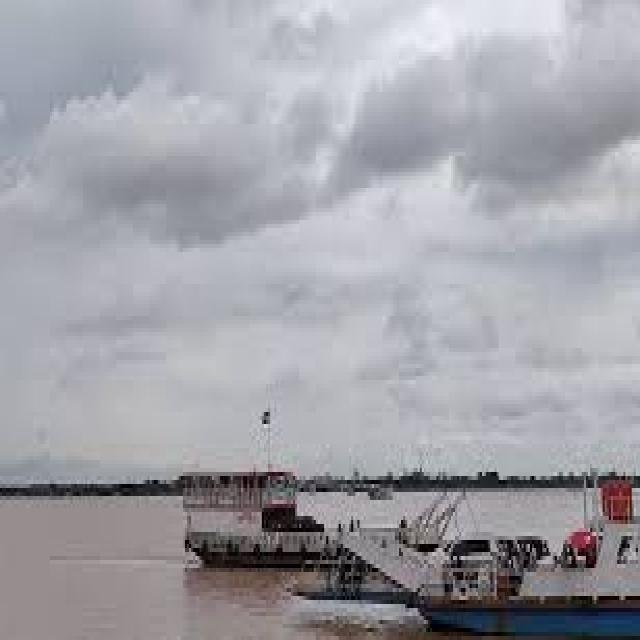houseboat: (174, 436, 331, 572)
